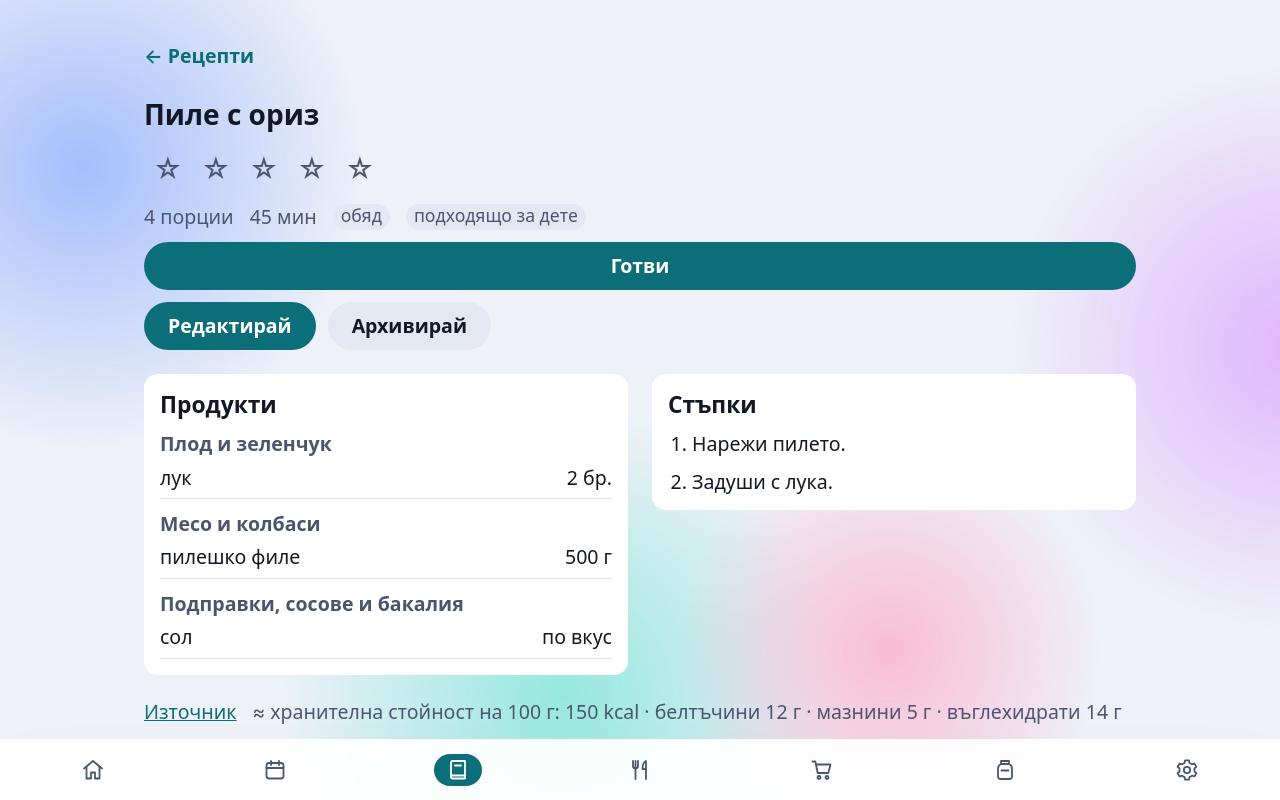
Test case: Готвене: екранът не гасне › phone: wake lock при влизане, отново при видимост, пуснат при излизане
The width and height of the screenshot is (1280, 800).
Expected: the heading "Пиле с ориз" is shown, 144,95 -> 319,133
Click the link "Готви". click: (640, 266)
box: 144,242 -> 1136,290
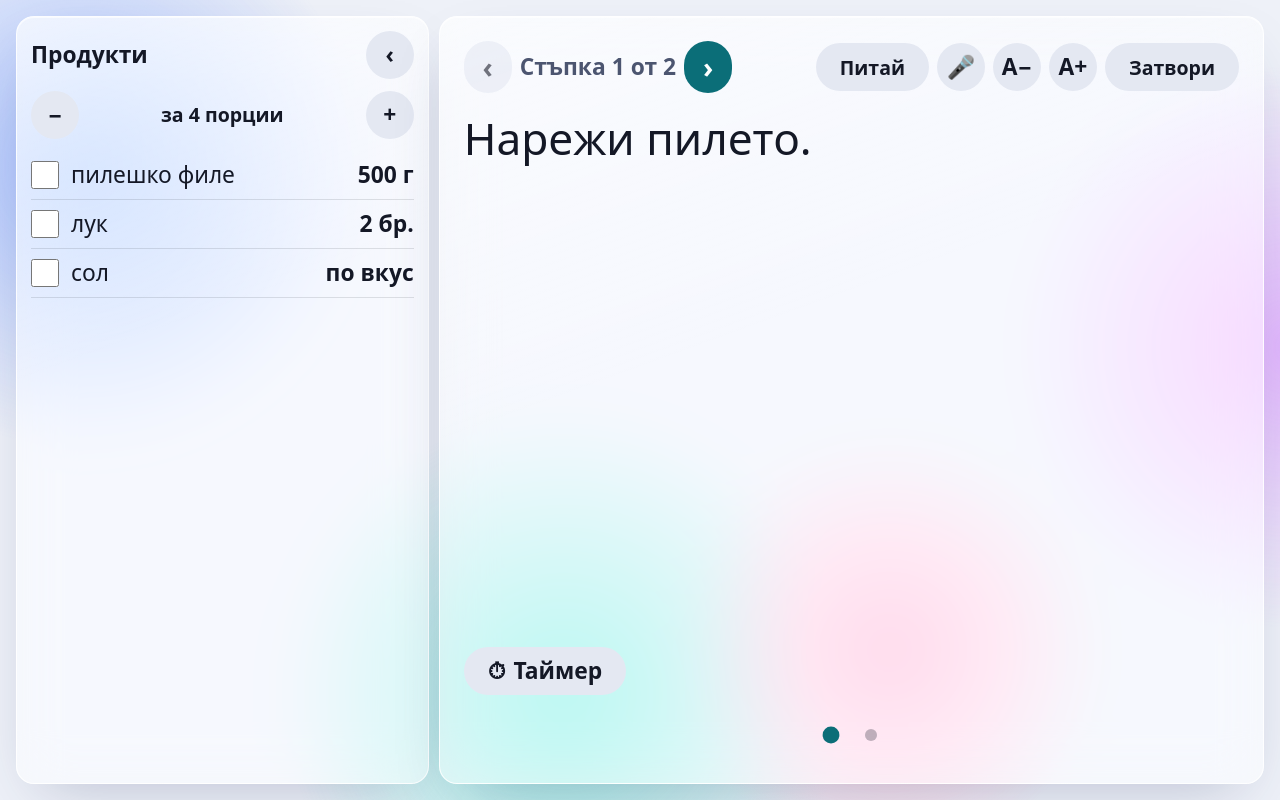
Click the button "Затвори". click: (1172, 67)
box: 1105,43 -> 1239,91
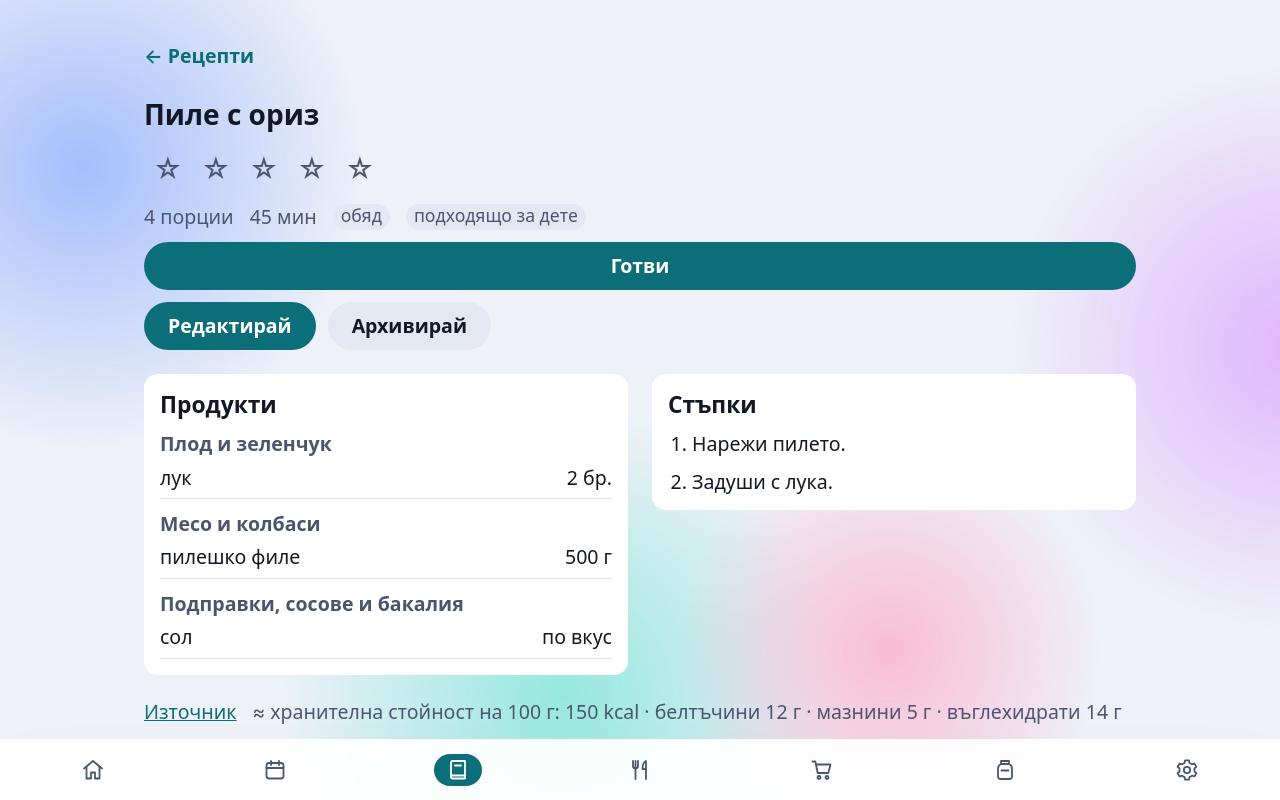
Expected: the heading "Пиле с ориз" is shown, 144,95 -> 319,133
